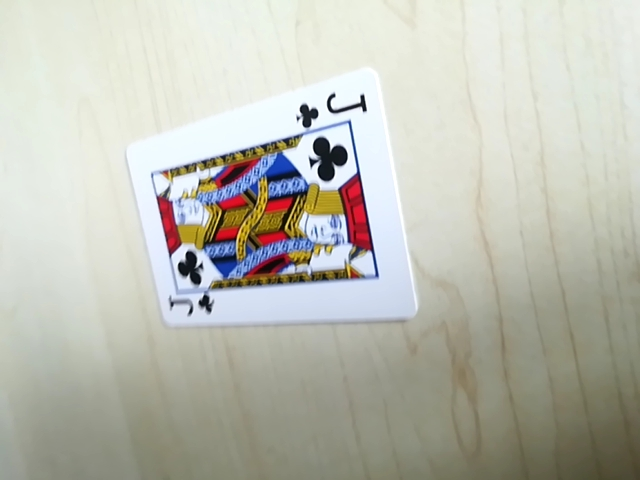mh j: (293, 89, 372, 130), (161, 284, 214, 327)
